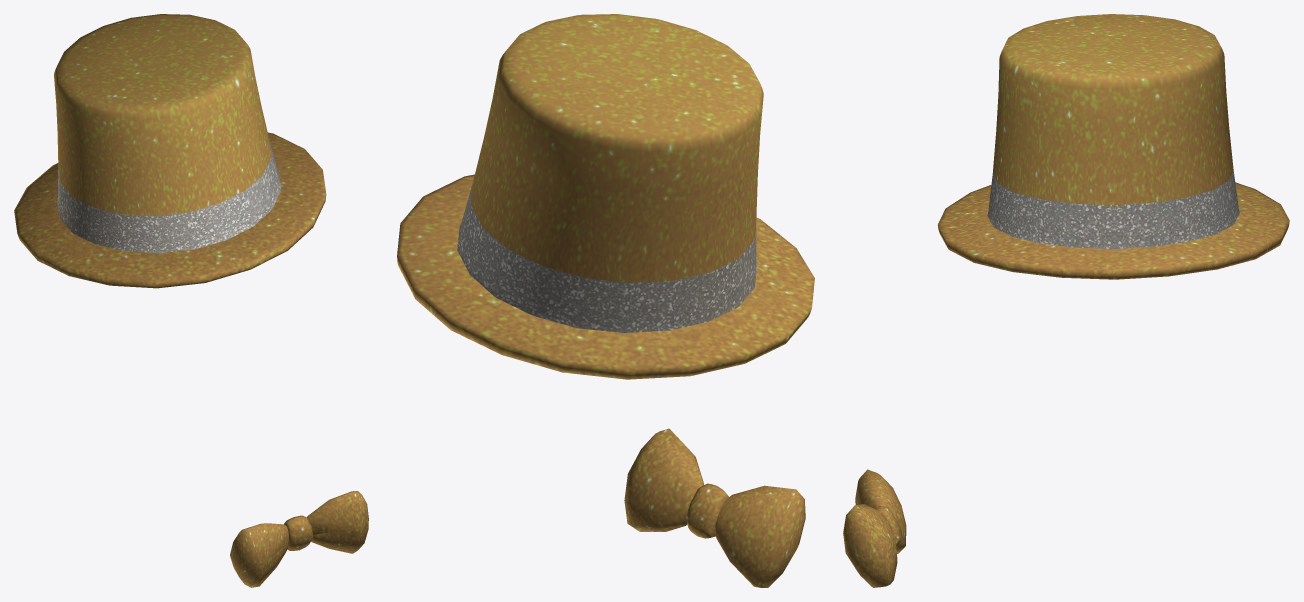
File: pm0163_00_Rig.fbx
The picture shows the model from 3 angles, left to right: view 1: azimuth 30°, elevation 25°; view 2: azimuth 150°, elevation 25°; view 3: azimuth 270°, elevation 25°; orthographic projection. The views are drawn at different scales.
Parts seen in each view (by area): view 1: doodad_jan_2022_hat, doodad_jan_2022_bow; view 2: doodad_jan_2022_hat, doodad_jan_2022_bow; view 3: doodad_jan_2022_hat, doodad_jan_2022_bow.
Boxes of the visible parts, x1,y1,x2,y2 form: doodad_jan_2022_hat: (14,14,326,288); doodad_jan_2022_bow: (230,491,368,587); doodad_jan_2022_hat: (397,14,814,379); doodad_jan_2022_bow: (624,428,805,587); doodad_jan_2022_hat: (937,14,1289,279); doodad_jan_2022_bow: (843,469,906,587).
Size of the model in its own units: 0.4057 by 0.6648 by 0.5166.
Materials: 1 (1 with a texture image).
